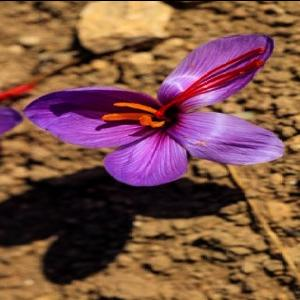Saffron: (23, 33, 276, 175)
